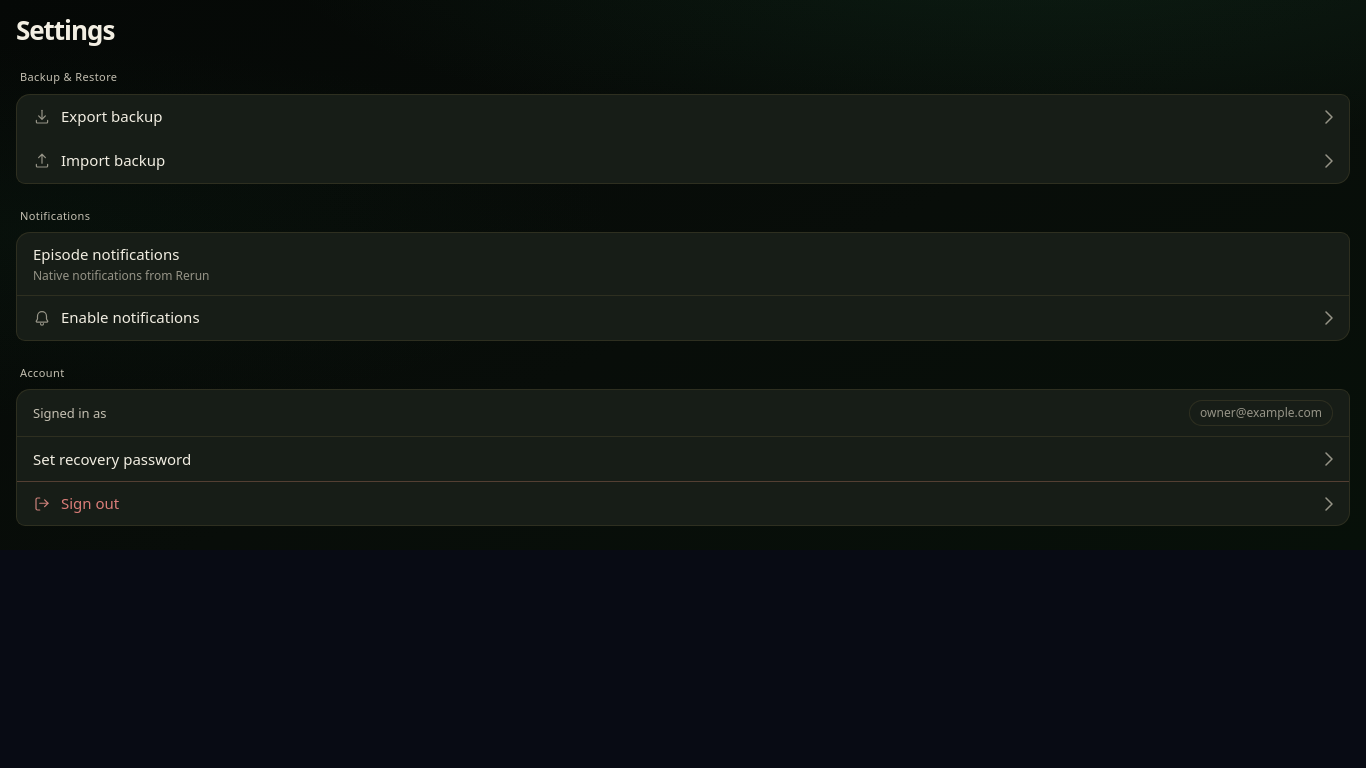
Test case: Settings: Notifications section › shows Permission denied when the user denies the native prompt
The image size is (1366, 768).
What coordinates should you click on to do the following:
click the button "Enable notifications"
I would click on:
 (130, 317)
Its box is [17, 296, 1349, 340].
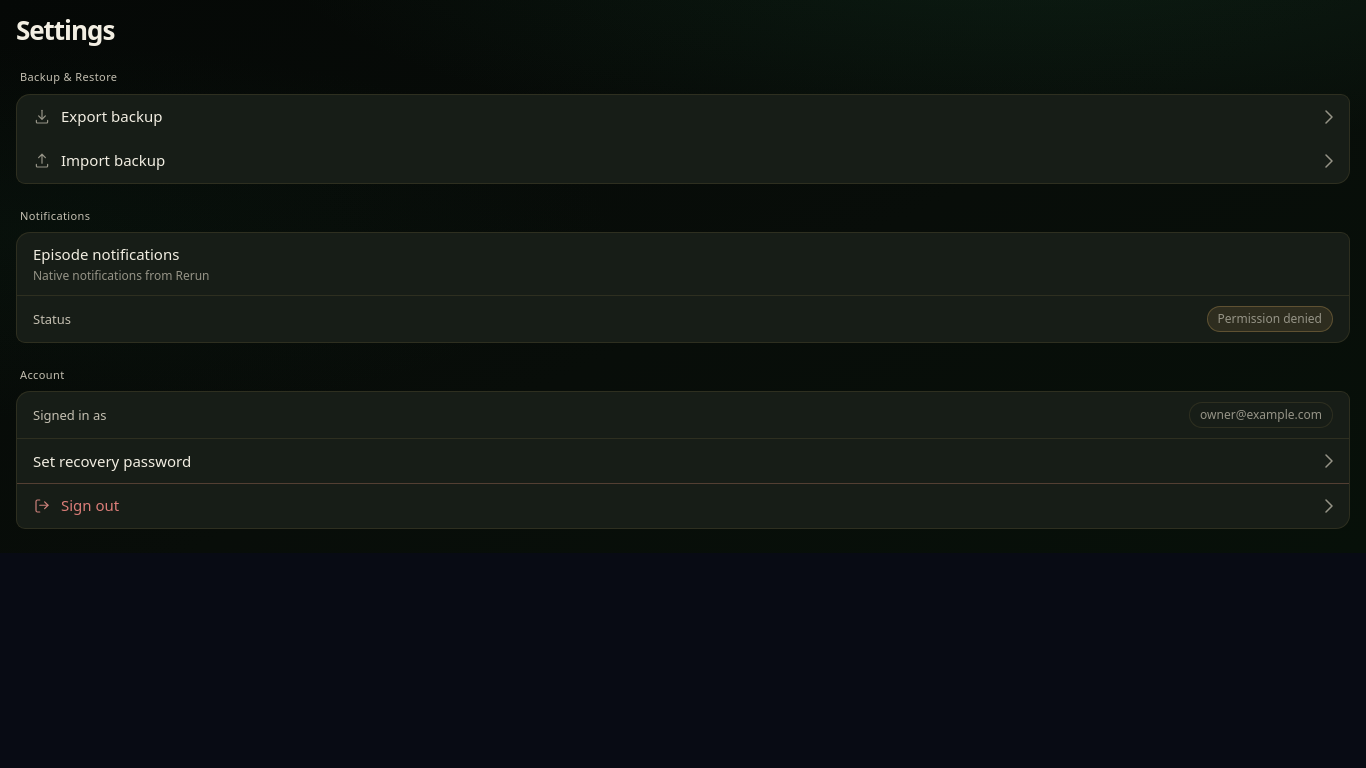
Check: the text "Permission denied" is shown, box [1206, 306, 1333, 332]
